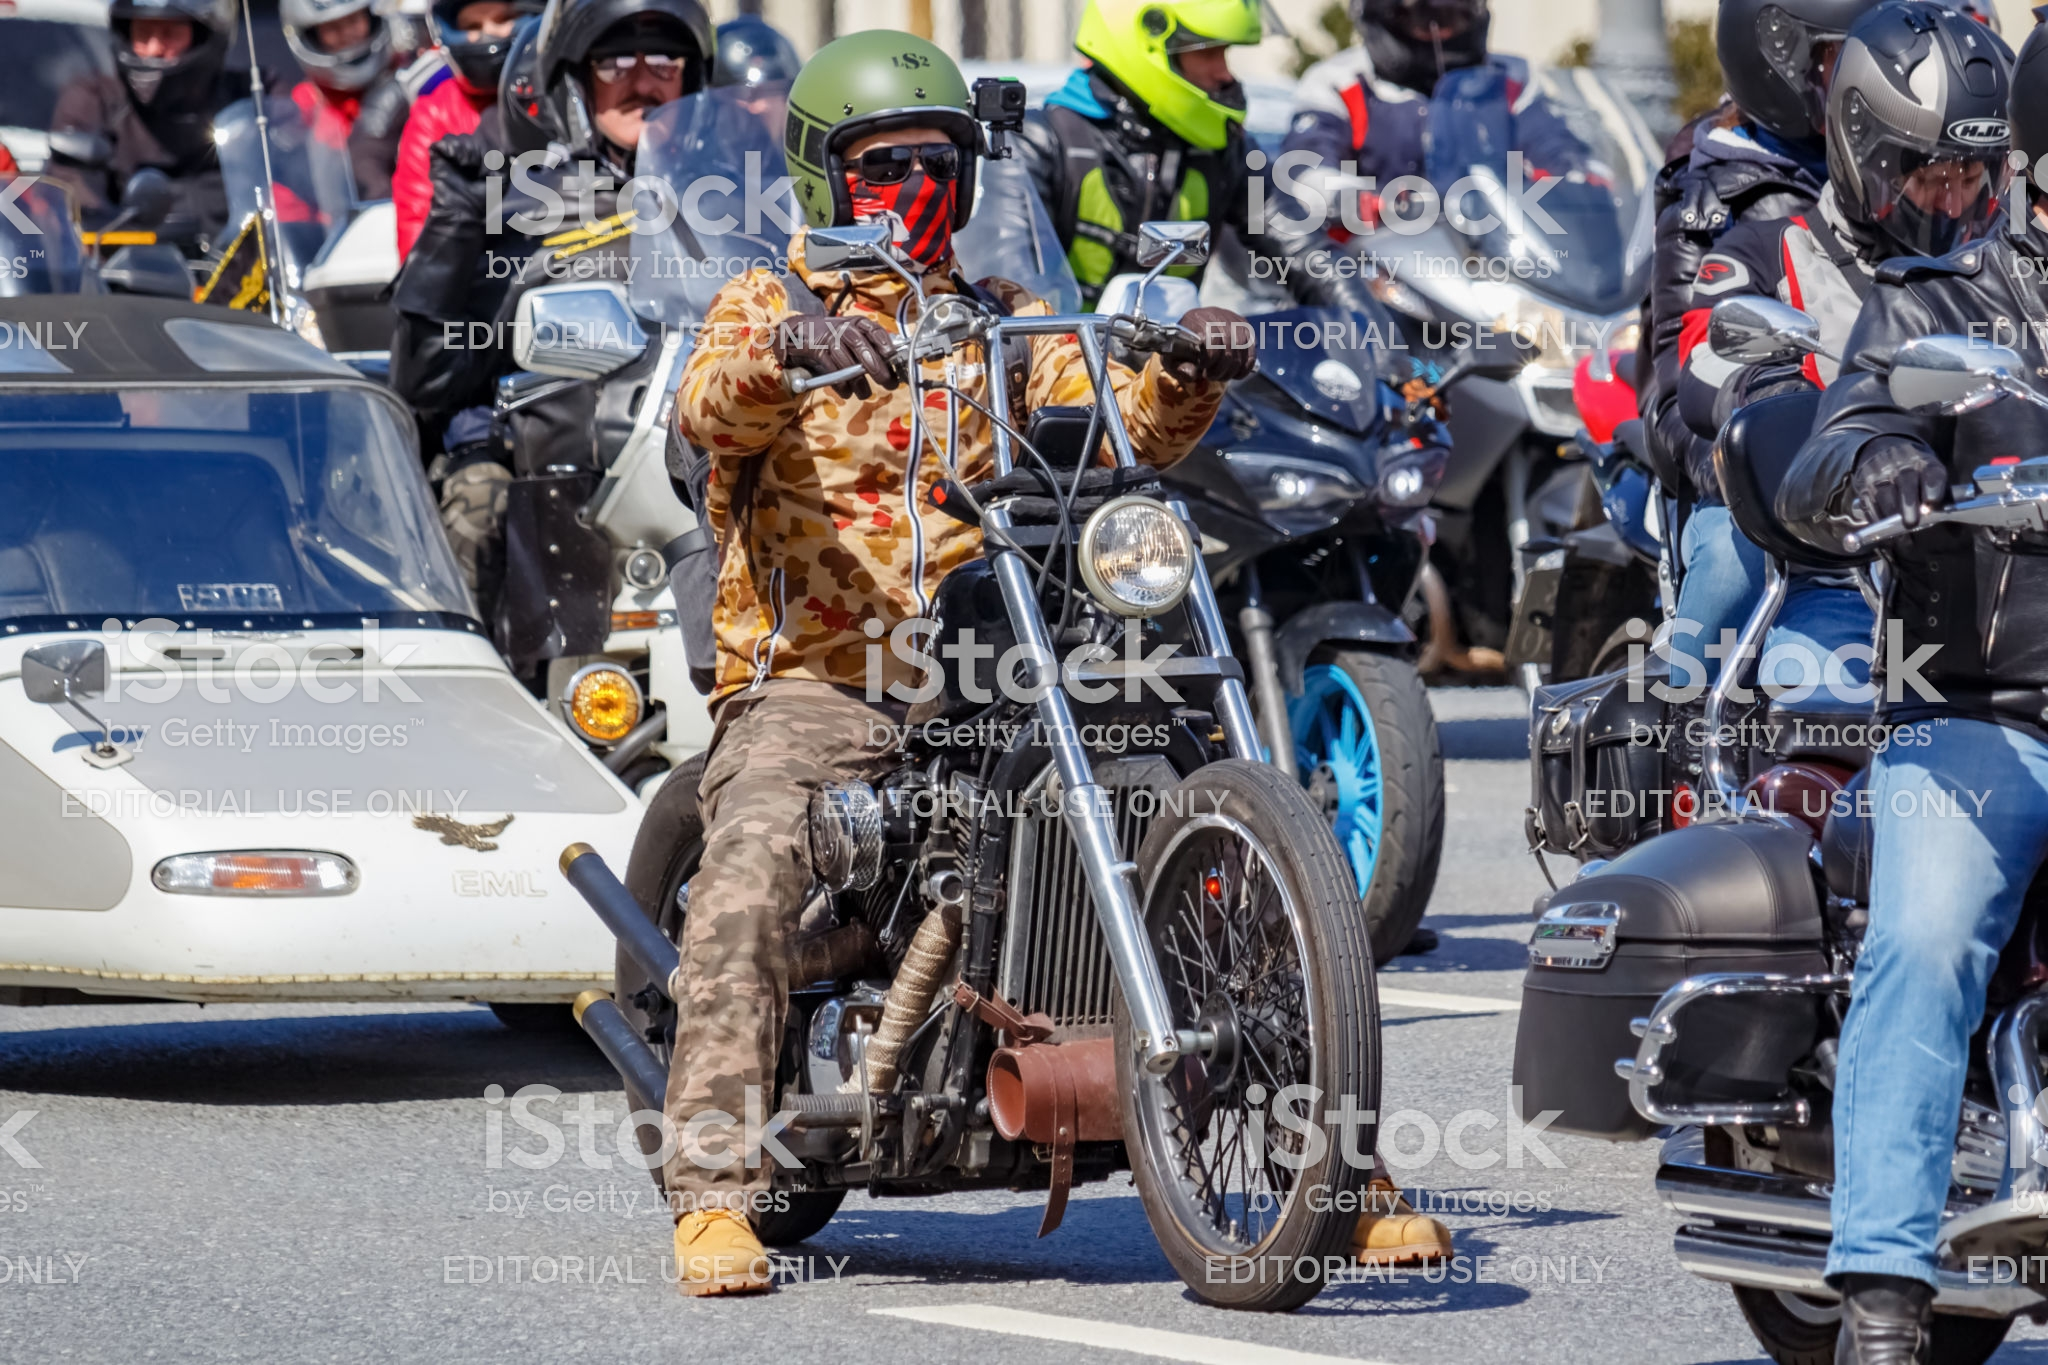helmet: (1810, 11, 2025, 244), (781, 17, 971, 264), (534, 5, 731, 152)
